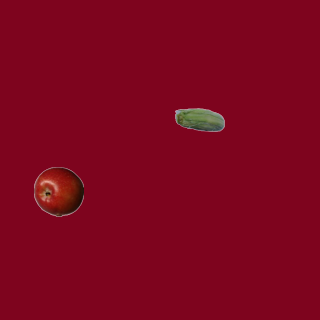Apple Braeburn: (33, 166, 83, 216)
Corn Husk: (174, 96, 224, 146)
